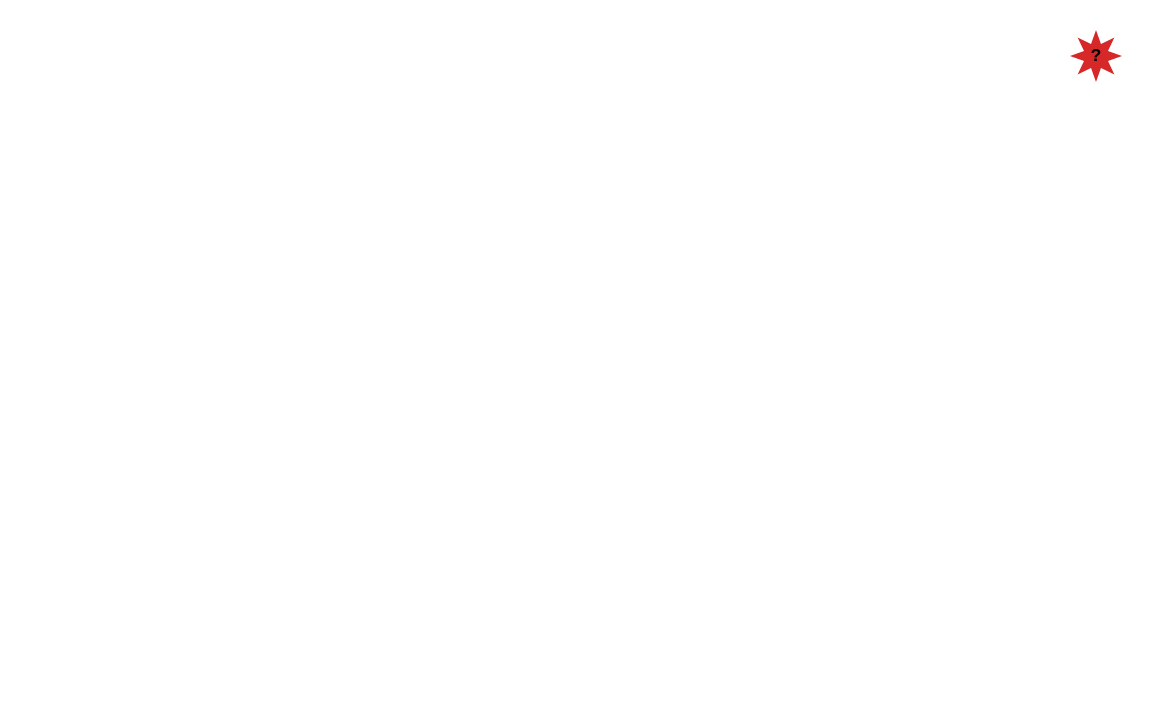
Test: HelpStar › opens the help modal when the star is clicked
Click the button named "how does this work". click: (1096, 56)
box: [1070,30,1122,82]
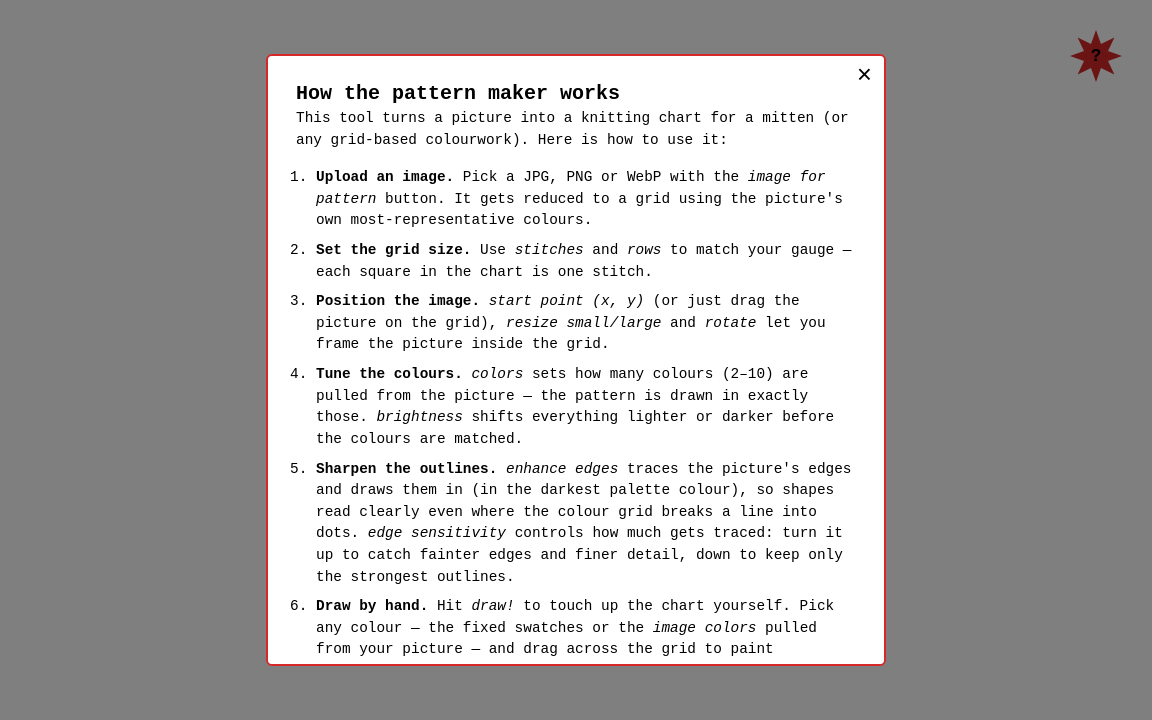
Now the dialog "How the pattern maker works" is shown
